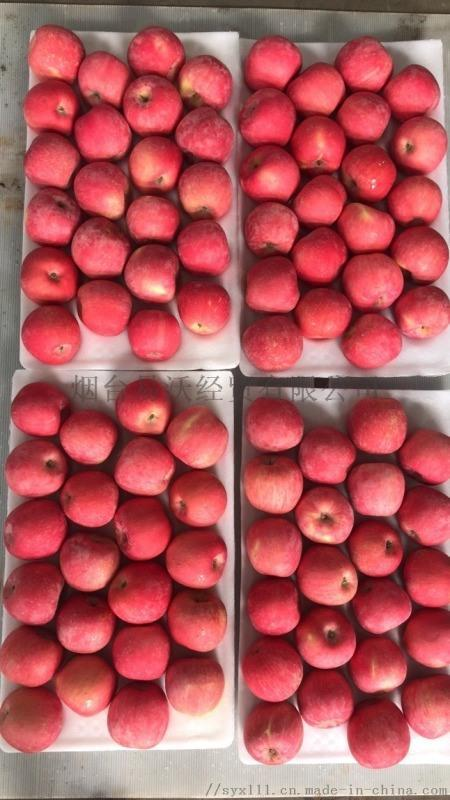apple: (346, 700, 411, 769), (163, 405, 229, 471), (107, 681, 170, 749), (242, 634, 305, 701), (244, 700, 306, 767), (3, 564, 68, 627), (1, 690, 66, 752), (107, 563, 174, 623), (109, 622, 171, 684), (163, 656, 225, 717), (348, 394, 409, 456), (1, 627, 63, 688), (296, 609, 356, 672), (57, 654, 117, 717), (70, 216, 130, 279), (166, 470, 230, 529), (298, 544, 359, 605), (296, 485, 357, 546), (343, 251, 404, 312), (60, 530, 119, 593), (19, 304, 82, 363), (164, 531, 229, 588), (114, 436, 175, 496), (389, 117, 450, 177), (109, 499, 171, 558), (169, 590, 227, 653), (123, 242, 181, 305), (339, 314, 403, 371), (3, 501, 67, 558), (174, 107, 235, 166), (6, 441, 68, 499), (242, 456, 302, 515), (123, 74, 181, 135), (239, 88, 296, 150), (68, 161, 130, 218), (350, 577, 414, 632), (297, 670, 355, 730), (57, 593, 115, 653), (333, 35, 393, 93), (240, 316, 303, 371), (391, 223, 449, 282), (21, 246, 79, 305), (175, 160, 232, 220), (22, 132, 79, 192), (59, 471, 119, 528), (287, 59, 348, 115), (240, 146, 301, 201), (397, 483, 450, 546), (244, 519, 301, 577), (126, 25, 185, 81), (24, 187, 80, 246), (290, 115, 345, 175), (128, 133, 182, 193), (347, 463, 407, 517), (12, 384, 72, 438), (245, 578, 302, 634), (74, 105, 131, 161), (291, 227, 347, 284), (24, 82, 82, 137), (178, 219, 233, 277), (29, 25, 83, 84), (243, 37, 302, 91), (400, 675, 450, 738), (385, 64, 441, 120), (246, 396, 302, 452), (60, 409, 117, 464), (350, 638, 407, 693), (299, 428, 356, 483), (342, 145, 397, 201), (178, 280, 234, 335), (244, 257, 300, 312), (78, 279, 132, 336), (395, 286, 450, 341), (79, 50, 132, 107), (293, 172, 347, 227), (296, 287, 351, 341), (243, 203, 299, 256), (178, 56, 232, 110), (128, 309, 183, 362), (350, 521, 402, 577), (335, 90, 391, 142), (400, 427, 450, 485), (403, 548, 450, 609), (386, 176, 443, 226), (403, 611, 450, 671), (114, 387, 171, 436), (337, 204, 395, 252), (127, 193, 178, 243)
